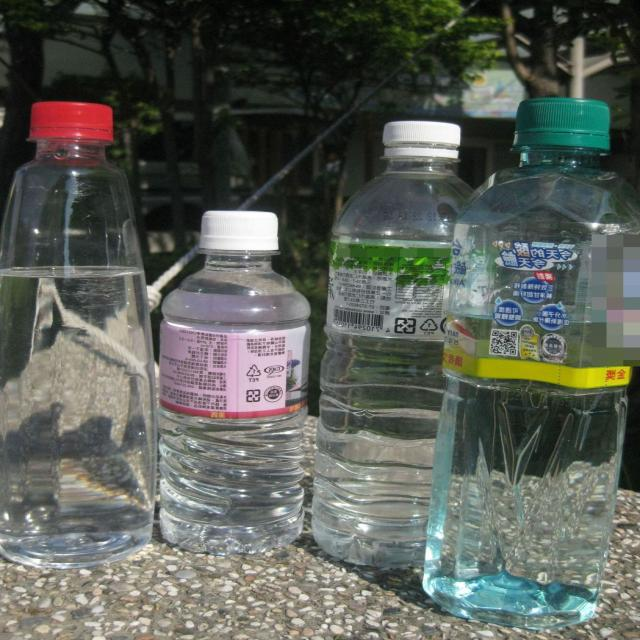plastic: (310, 96, 640, 626), (0, 103, 158, 571), (154, 202, 314, 554)
